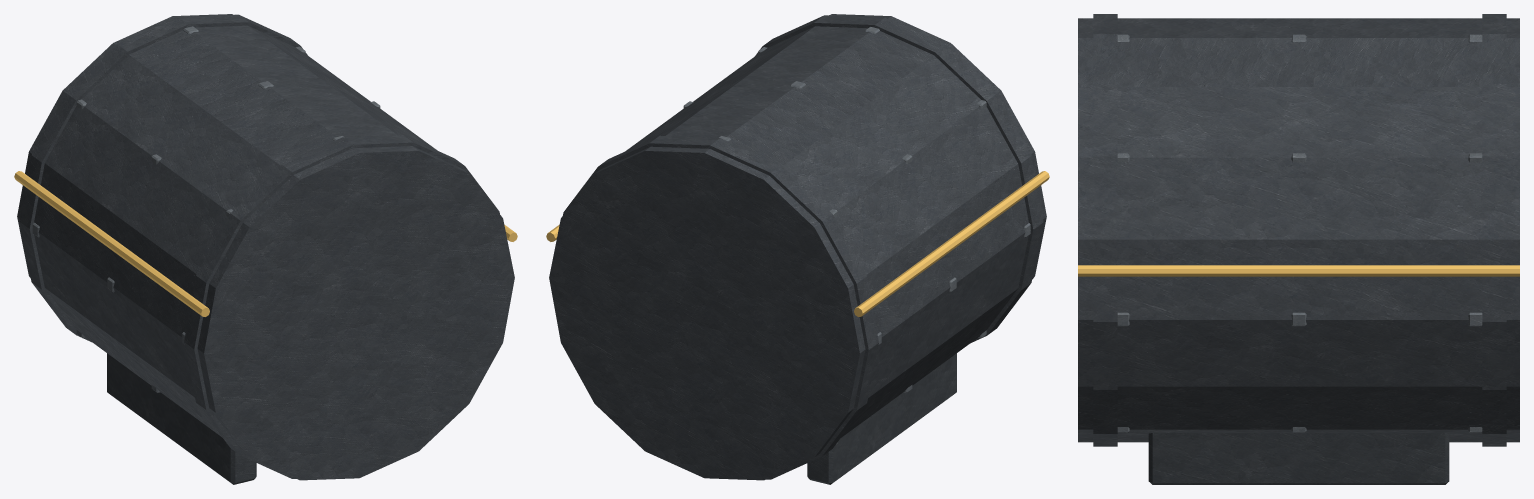
Rendered from train_smokebox.gltf.
The picture shows the model from 3 angles, left to right: view 1: azimuth 30°, elevation 25°; view 2: azimuth 150°, elevation 25°; view 3: azimuth 270°, elevation 25°; orthographic projection. The views are drawn at different scales.
Bounding box in the file's own units: 0.98 × 0.99 × 1.
4 materials, 3 textured.
